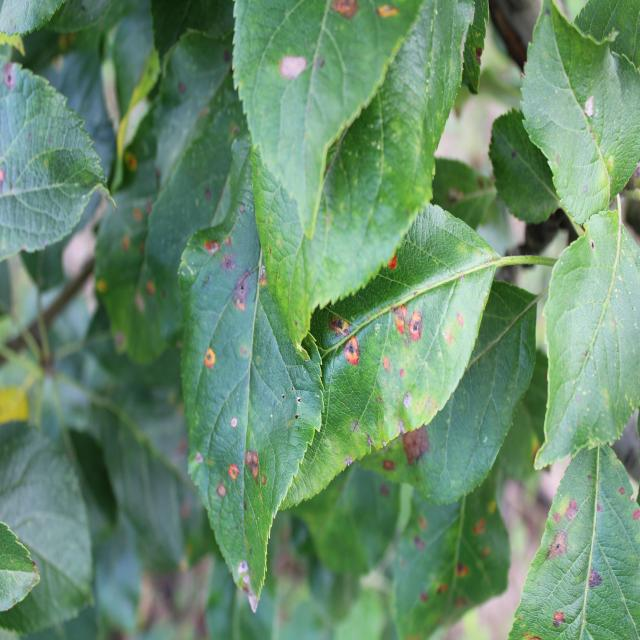Rust: (321, 0, 373, 33), (242, 442, 271, 497), (373, 0, 414, 24), (411, 312, 430, 360), (345, 332, 366, 372), (326, 303, 350, 338), (396, 293, 410, 347), (201, 338, 218, 378), (225, 457, 243, 491), (379, 252, 406, 273), (122, 146, 138, 175), (145, 278, 159, 308), (204, 236, 219, 264), (121, 233, 132, 260), (379, 352, 392, 373)
